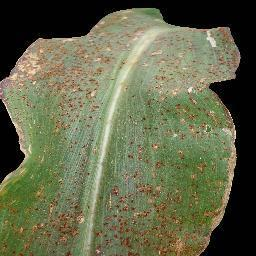Corn_Common_Rust: (119, 20, 242, 256), (0, 41, 118, 121), (0, 168, 90, 256), (15, 121, 99, 168), (43, 19, 121, 42), (98, 185, 119, 256), (102, 4, 165, 19)
